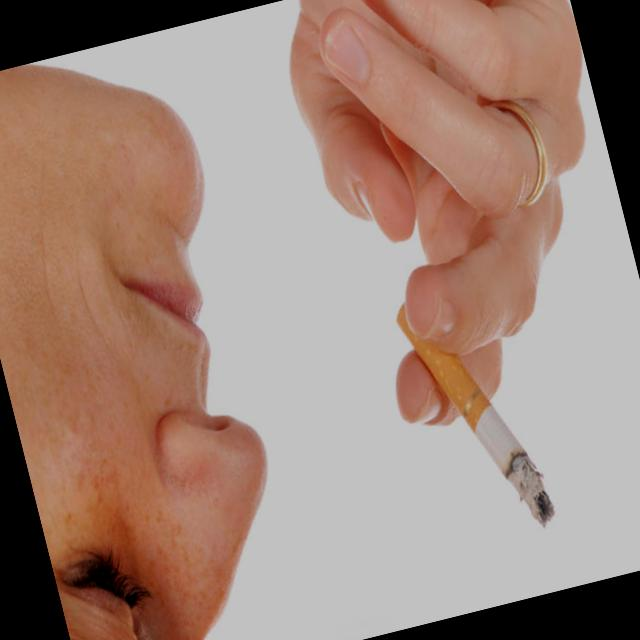cigarette: (436, 352, 559, 534)
